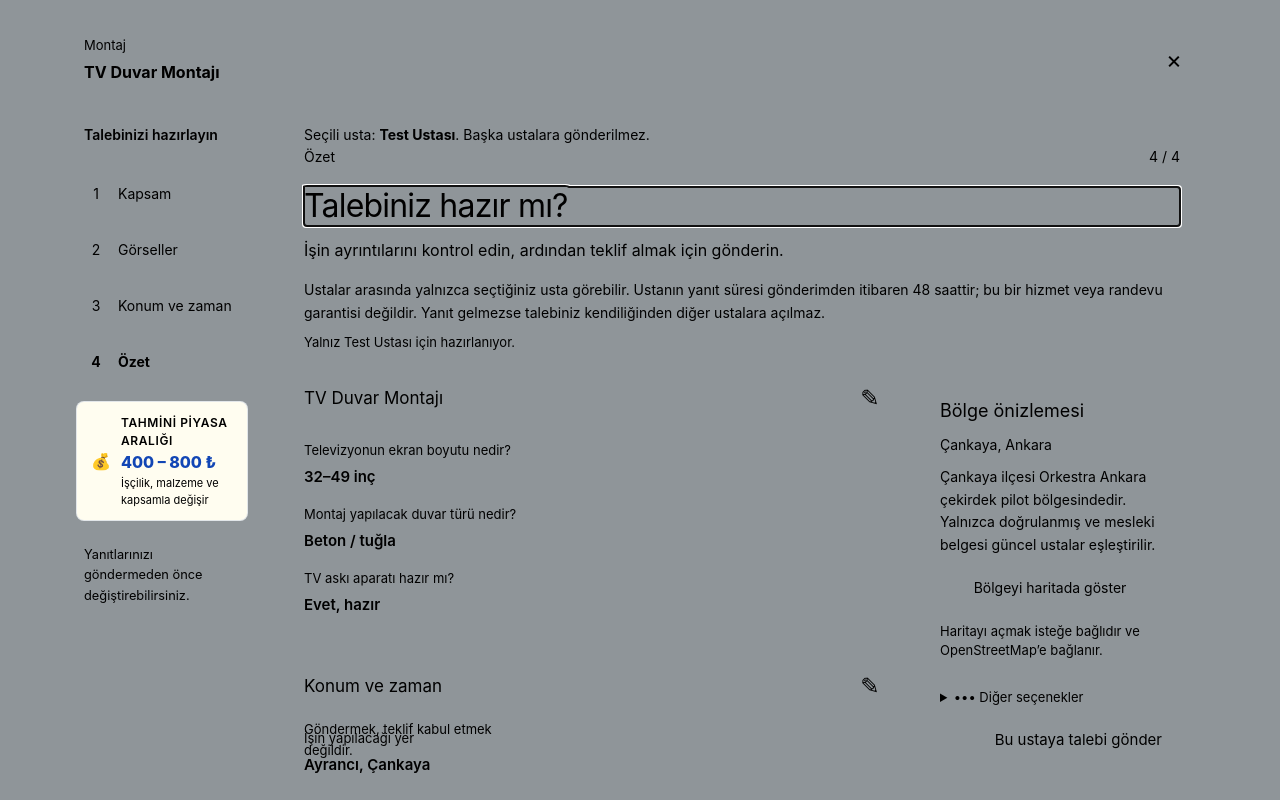
Scenario: offers login again if the session expires between saving and publication
Click the button "Bu ustaya talebi gönder": {"x": 1078, "y": 740} [977, 716, 1180, 764]
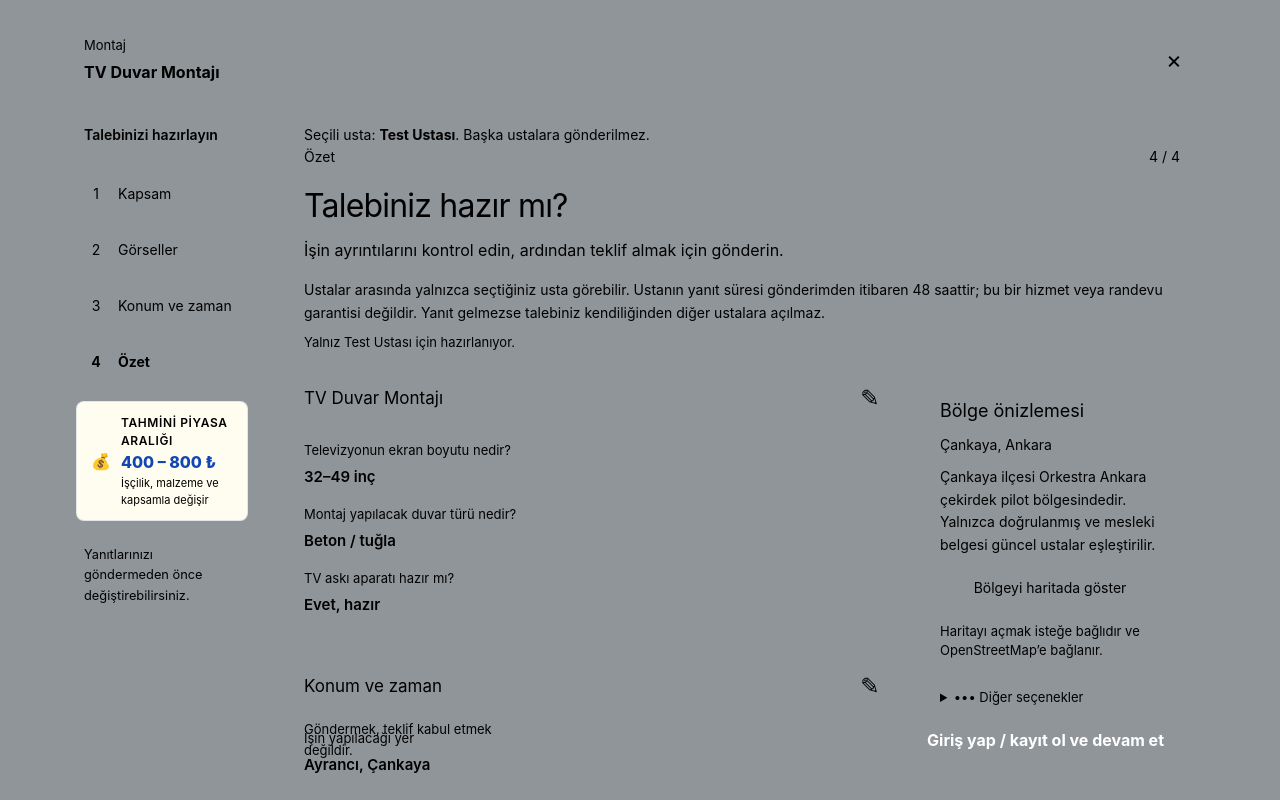
Expected: the link "Giriş yap / kayıt ol ve devam et" is shown, [927, 730, 1164, 750]
Expected: the button "Bu ustaya talebi gönder" is gone
